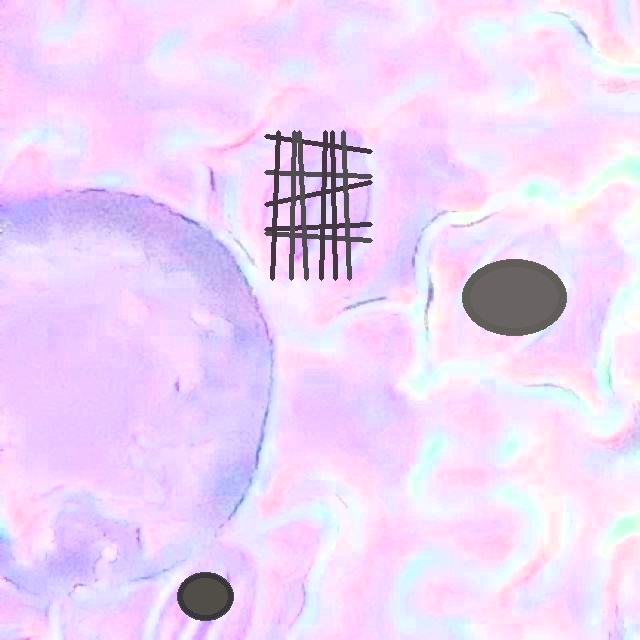open: (265, 131, 371, 280), (462, 259, 565, 336), (176, 571, 234, 621)
